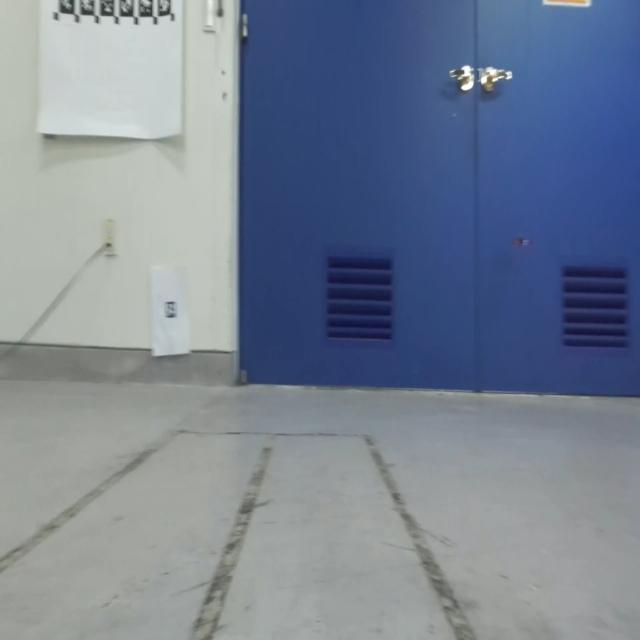crazyflie: (504, 227, 537, 259)
